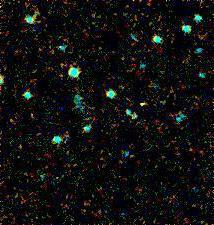star: (131, 85, 161, 115)
